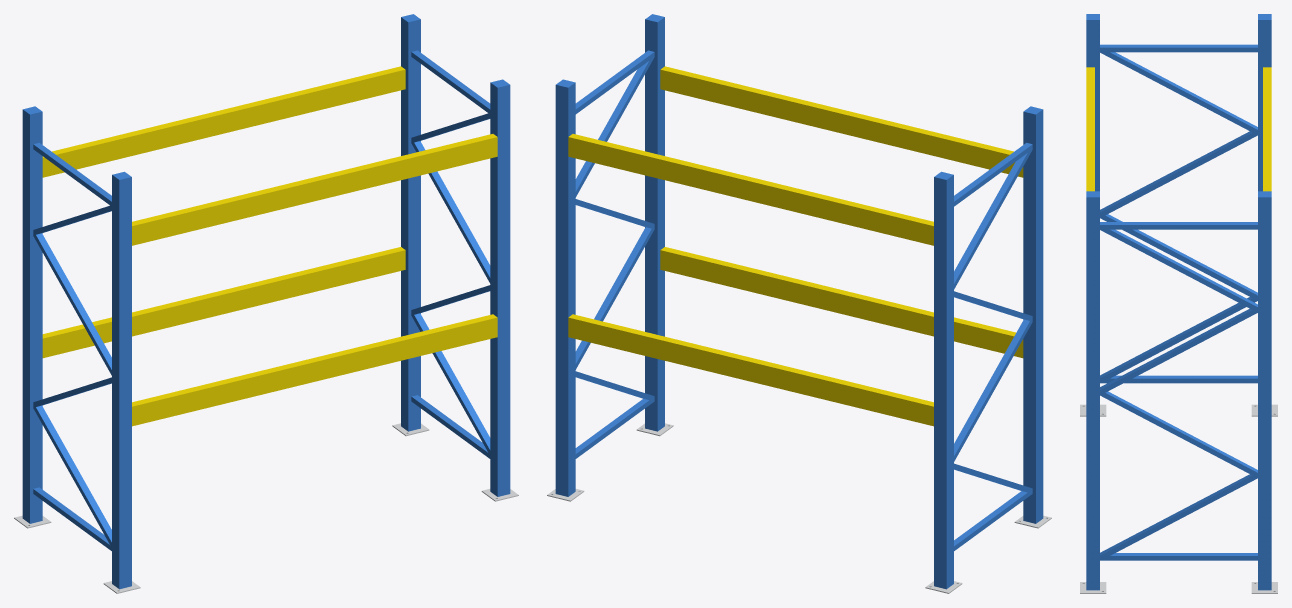
File: pallet-rack.glb
3 views of the same model, side by side, from view 1: azimuth 30°, elevation 25°; view 2: azimuth 150°, elevation 25°; view 3: azimuth 270°, elevation 25° (orthographic). The views are drawn at different scales.
Visible parts, largest first — view 1: body; view 2: body; view 3: body.
Boxes of the visible parts, box(x1,y1,x2,y2) form: body: box(14, 14, 518, 593); body: box(547, 14, 1051, 593); body: box(1080, 14, 1277, 593).
Size of what is drawn, in the model's own units: 2.56 by 2.5 by 1.14.
